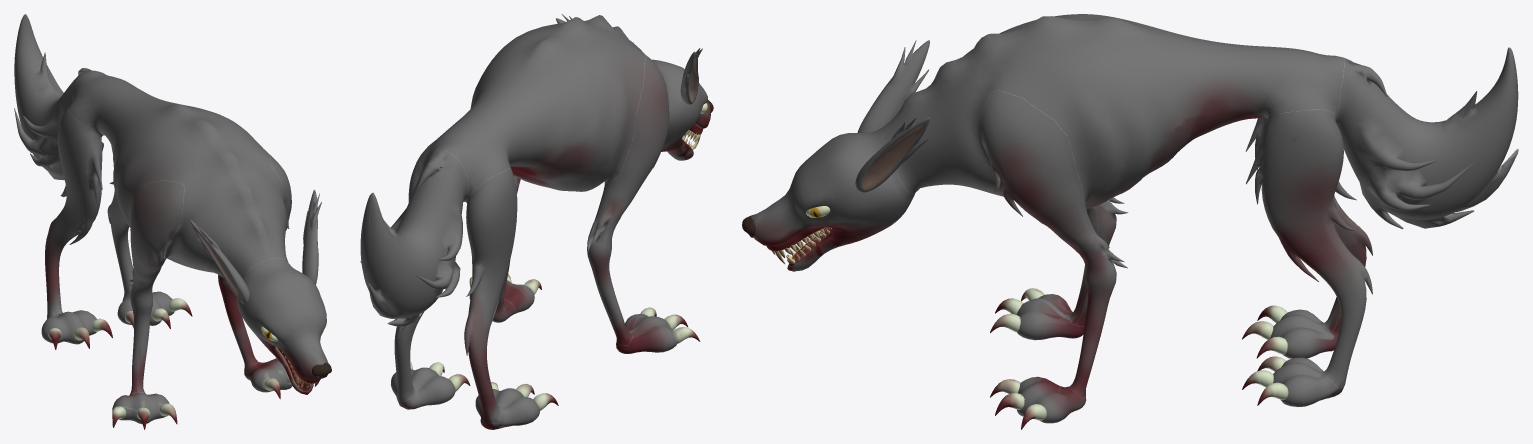
Rendered from loboenemigo.fbx.
3 views of the same model, side by side, from view 1: azimuth 30°, elevation 25°; view 2: azimuth 150°, elevation 25°; view 3: azimuth 270°, elevation 25° (orthographic). The views are drawn at different scales.
Parts seen in each view (by area): view 1: low; view 2: low; view 3: low.
Part boxes in pixels (left/top/right/bottom): low: left=14, top=14, right=331, bottom=429; low: left=360, top=14, right=713, bottom=429; low: left=742, top=14, right=1518, bottom=429.
Bounding box in the file's own units: 87.8 × 113 × 224.
